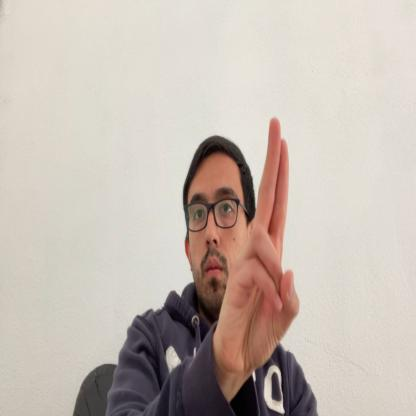U: (217, 116, 300, 375)
